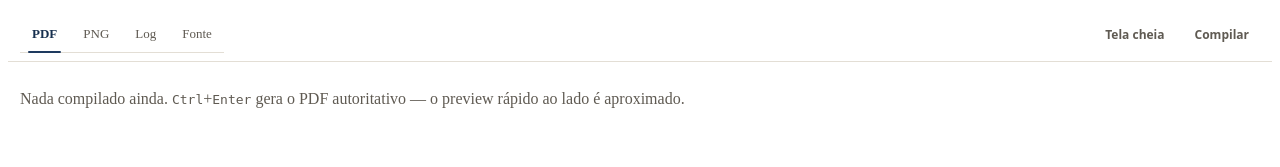
Scenario: RenderPanel — os gestos que faltavam › copiar sem área de transferência **diz** o que houve, em vez de não fazer nada
Click the tab "Fonte" at (197, 34), box [170, 16, 224, 52]
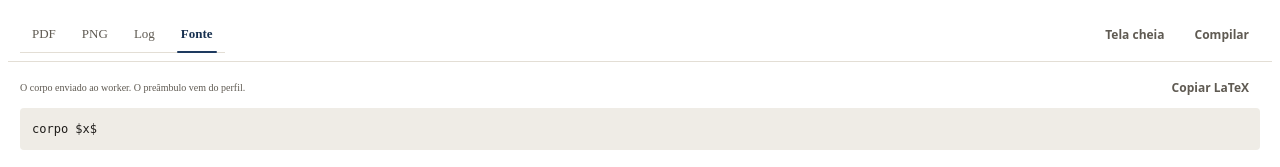
Click the button "Copiar LaTeX" at (1210, 87), box [1161, 74, 1260, 100]
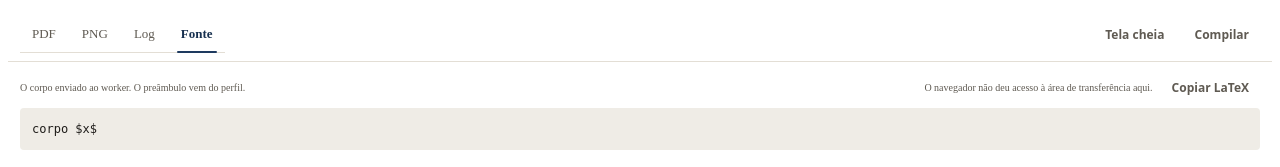
Expected: the message shows "área de transferência", [924, 82, 1153, 92]
